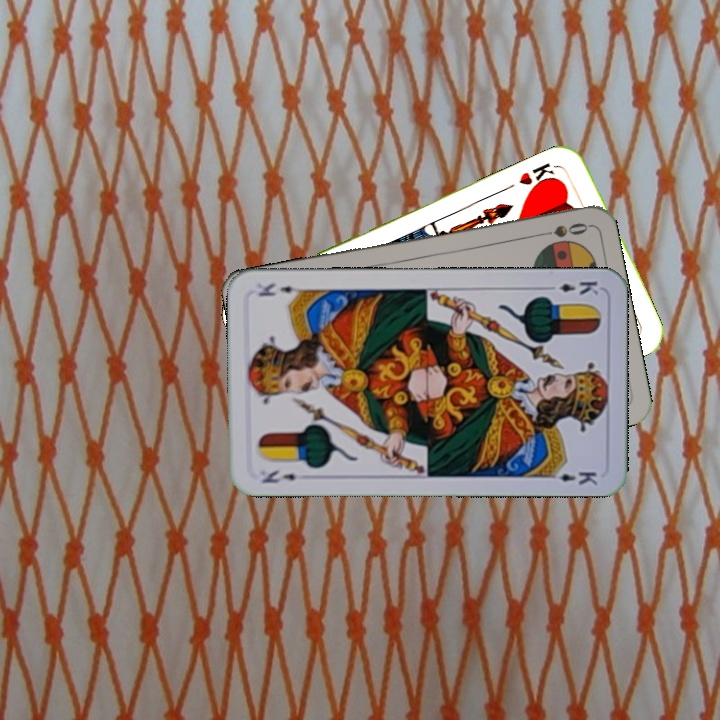EK: (542, 277, 601, 298), (258, 466, 299, 486)
HK: (515, 158, 565, 194)
SO: (531, 218, 591, 240)
